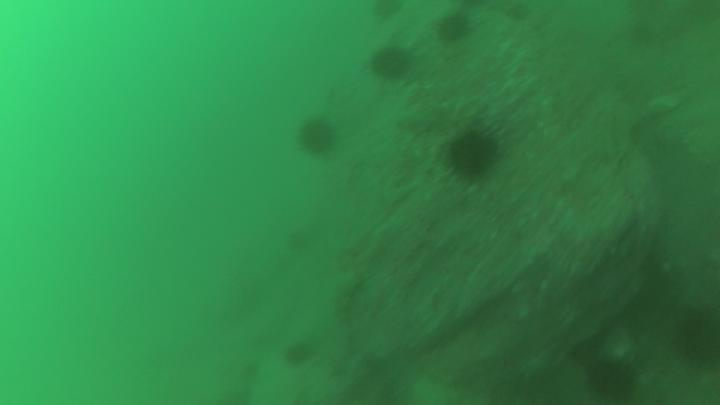echinus: (444, 123, 500, 183), (584, 349, 642, 405), (298, 116, 343, 160), (369, 43, 415, 85), (431, 9, 475, 51)
holothurian: (331, 267, 367, 330)
